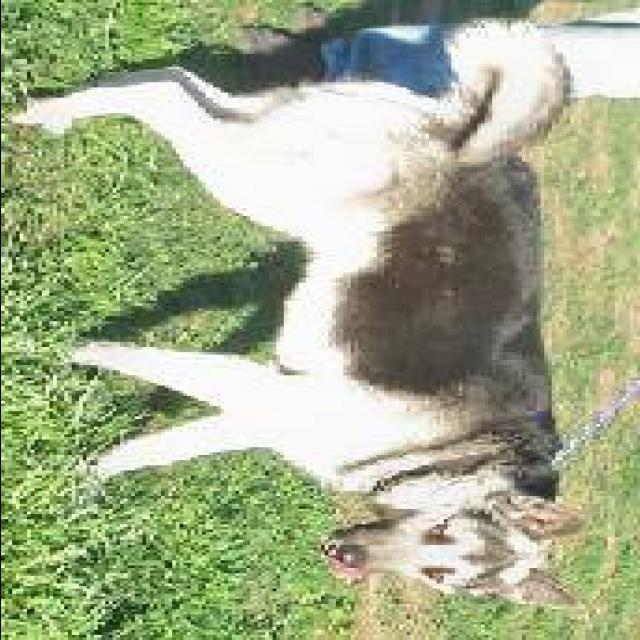dog: (31, 7, 608, 640)
